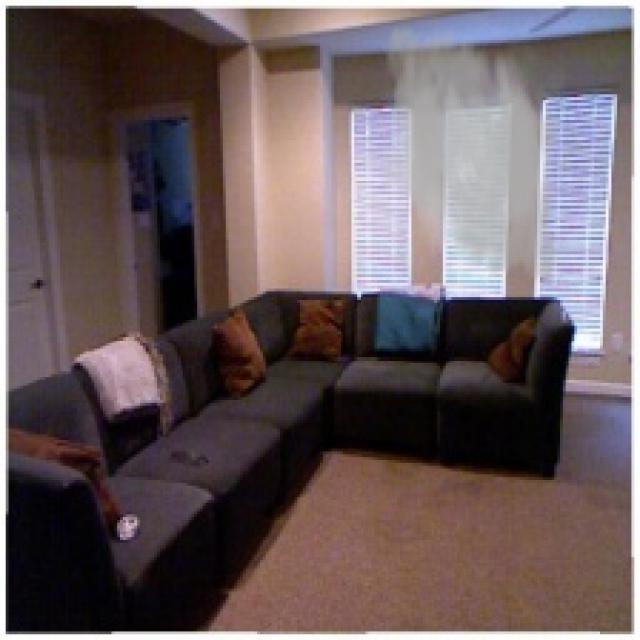Smoke: (372, 15, 577, 292)
